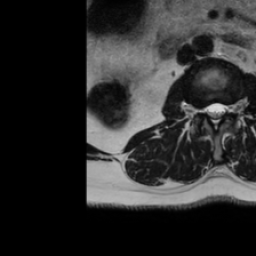CCS_normal: (212, 99, 219, 132)
LFS_normal: (228, 98, 235, 120)
LLS_normal: (220, 99, 227, 122)
RFS_severe_stenosis: (197, 103, 205, 120)
RLS_normal: (205, 100, 213, 123)
